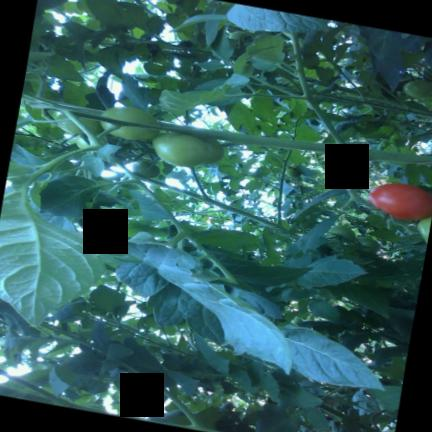6kp_peduncle: (323, 143, 387, 193)
6kp_petiole: (314, 115, 378, 159), (159, 123, 213, 137), (188, 184, 220, 205), (260, 211, 288, 232)
MainStem: (160, 121, 432, 164), (0, 384, 229, 432), (142, 177, 287, 232)
tomato: (369, 182, 432, 219), (100, 106, 158, 140), (152, 132, 207, 166), (57, 113, 102, 134), (199, 137, 224, 165), (403, 79, 432, 97), (132, 162, 159, 177), (417, 216, 431, 242), (329, 225, 355, 239), (357, 236, 380, 251), (285, 167, 299, 177)
